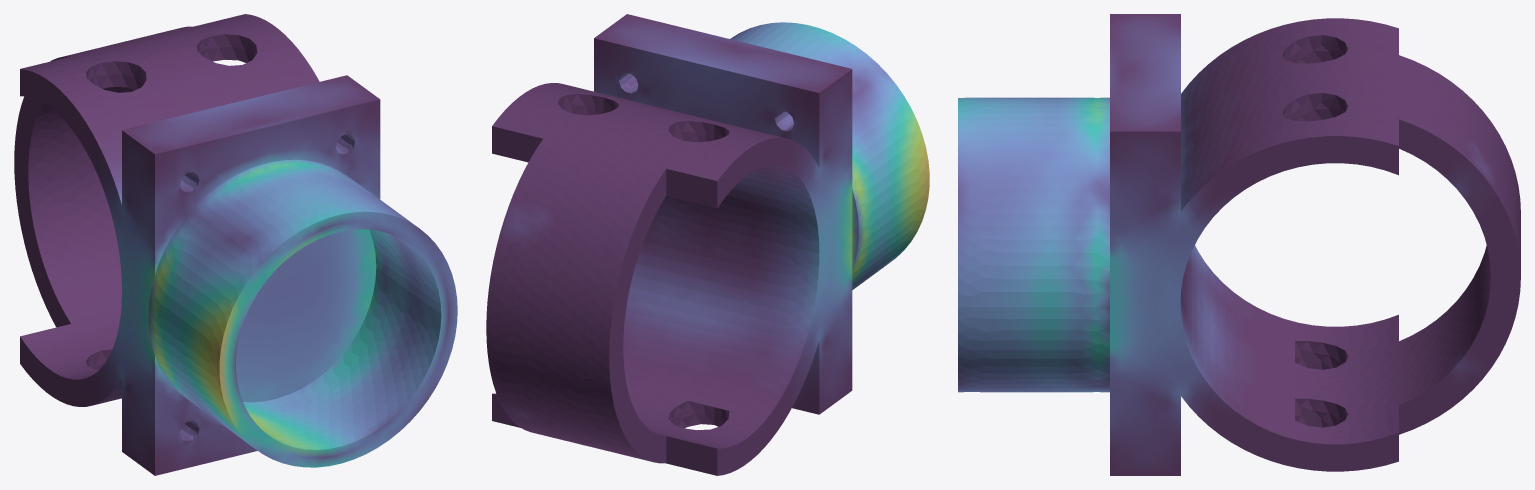
The model's file is CAD_PY-C.glb.
3 renders of one model, left to right at view 1: azimuth 30°, elevation 25°; view 2: azimuth 150°, elevation 25°; view 3: azimuth 270°, elevation 25°, orthographic. The views are drawn at different scales.
Visible parts, largest first — view 1: geometry_0; view 2: geometry_0; view 3: geometry_0.
Part boxes in pixels (x1,y1,x2,y2): geometry_0: (14,14,457,475); geometry_0: (486,14,929,475); geometry_0: (958,14,1520,475).
Bounding box in the file's own units: 0.1163 × 0.15 × 0.2223.
